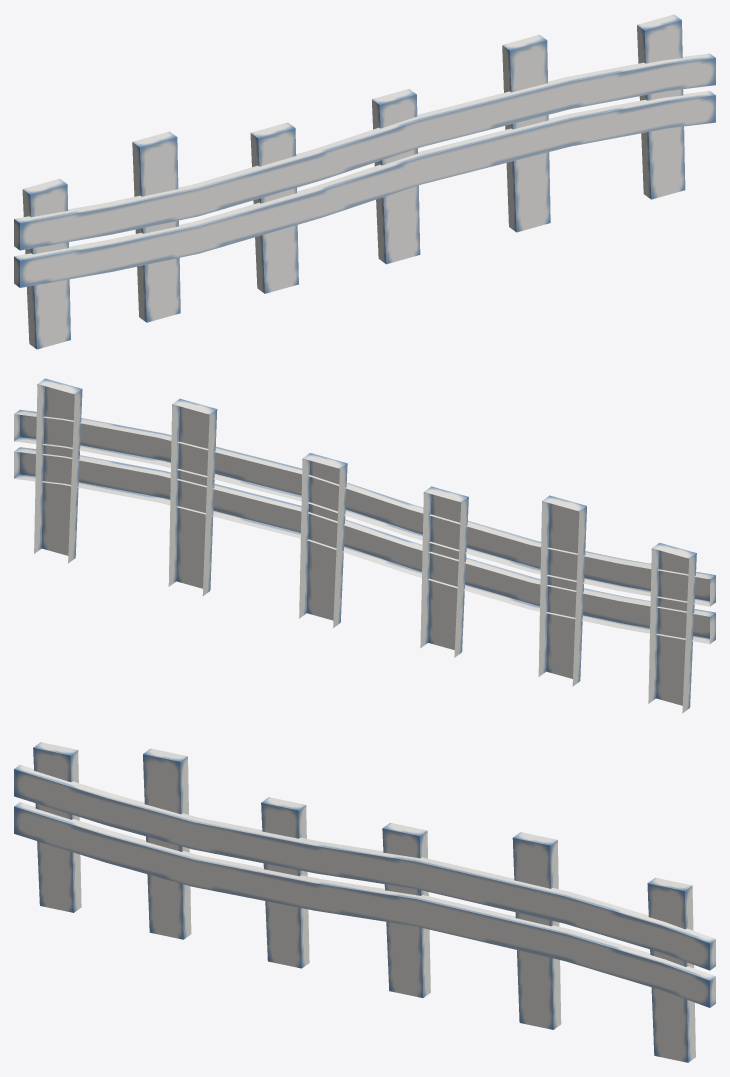
Rendered from Fance.fbx.
The picture shows the model from 3 angles, top to bottom: view 1: azimuth 30°, elevation 25°; view 2: azimuth 150°, elevation 25°; view 3: azimuth 330°, elevation 25°; orthographic projection.
Visible parts, largest first — view 1: febce; view 2: febce; view 3: febce.
Part boxes in pixels (<box>): febce: <box>14,14,715,349</box>; febce: <box>14,378,715,713</box>; febce: <box>14,742,715,1062</box>.
Bounding box in the file's own units: 1.37 × 0.3488 × 0.0414.
1 material, 1 textured.
